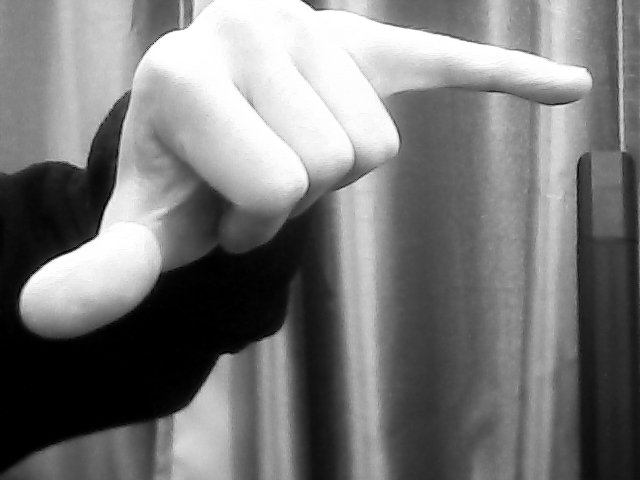aloha: (15, 1, 594, 346)
